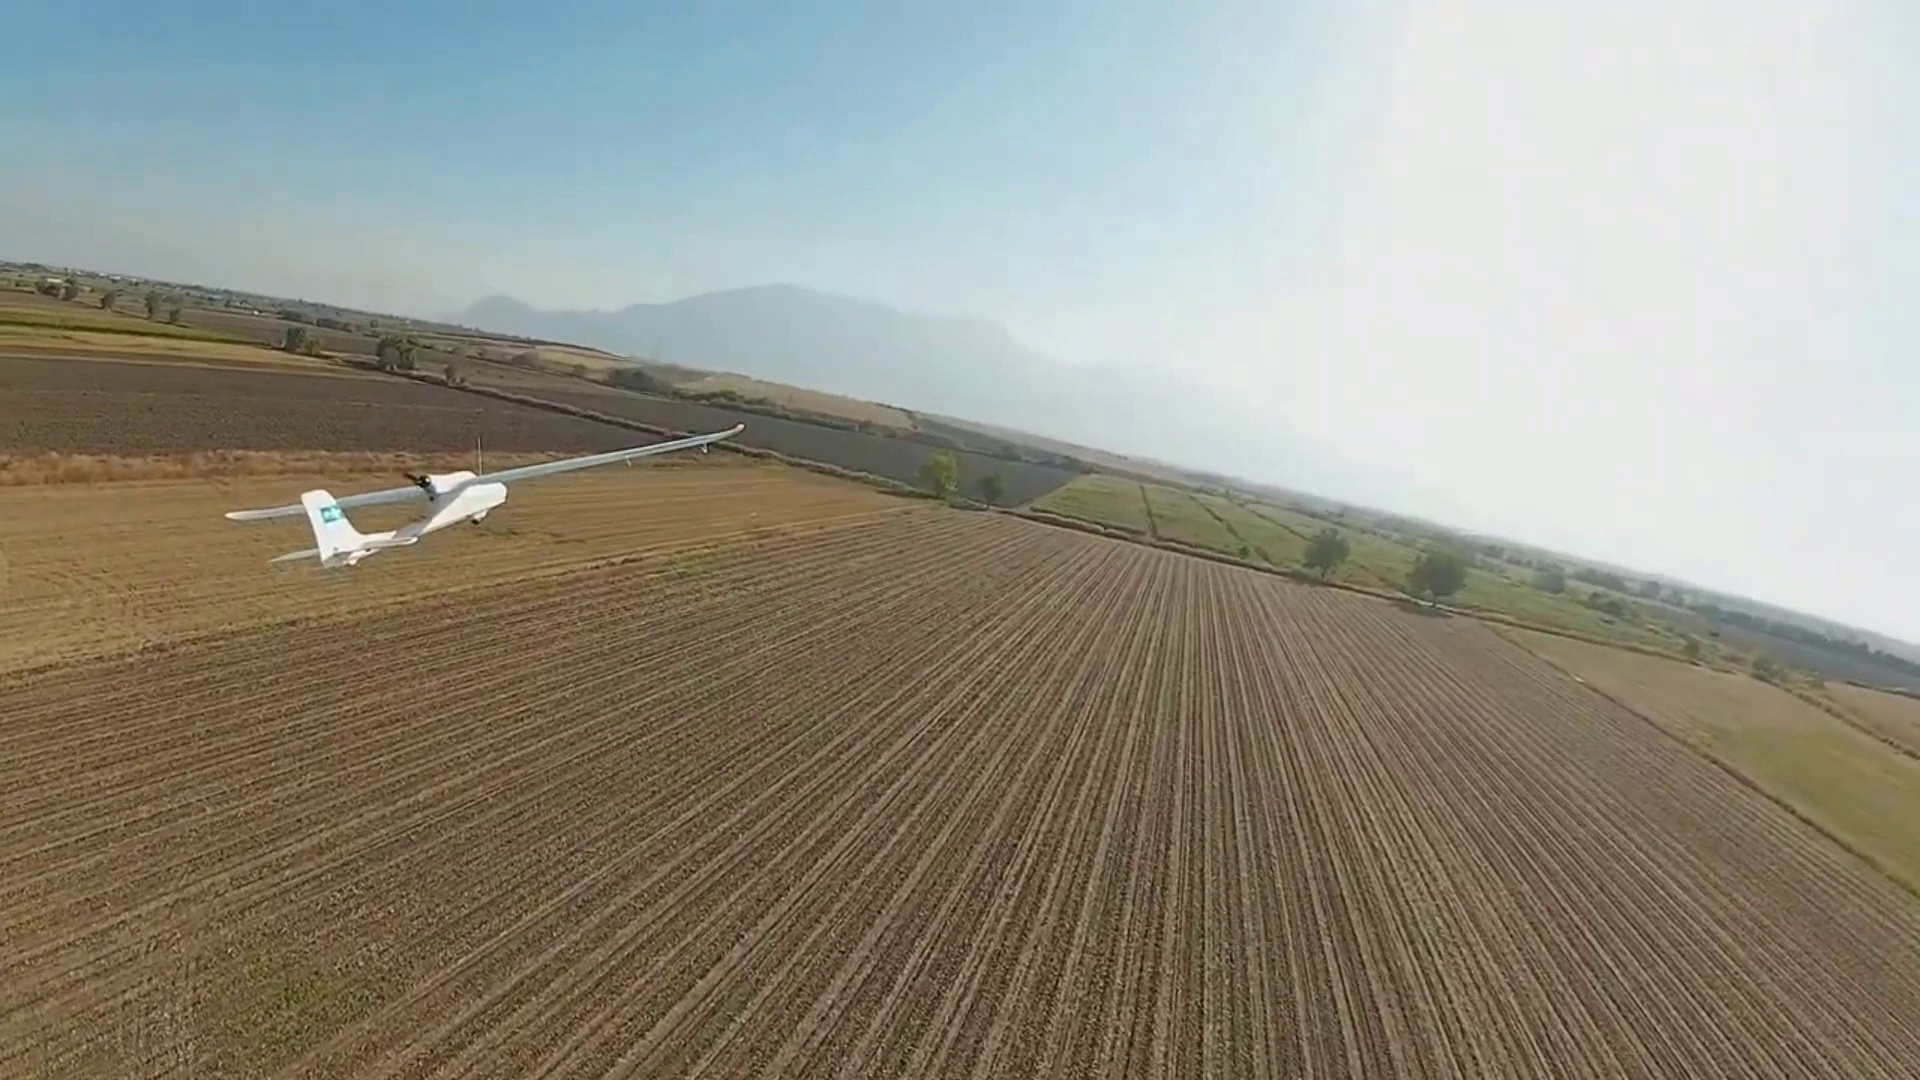airplane: (222, 462, 509, 571)
